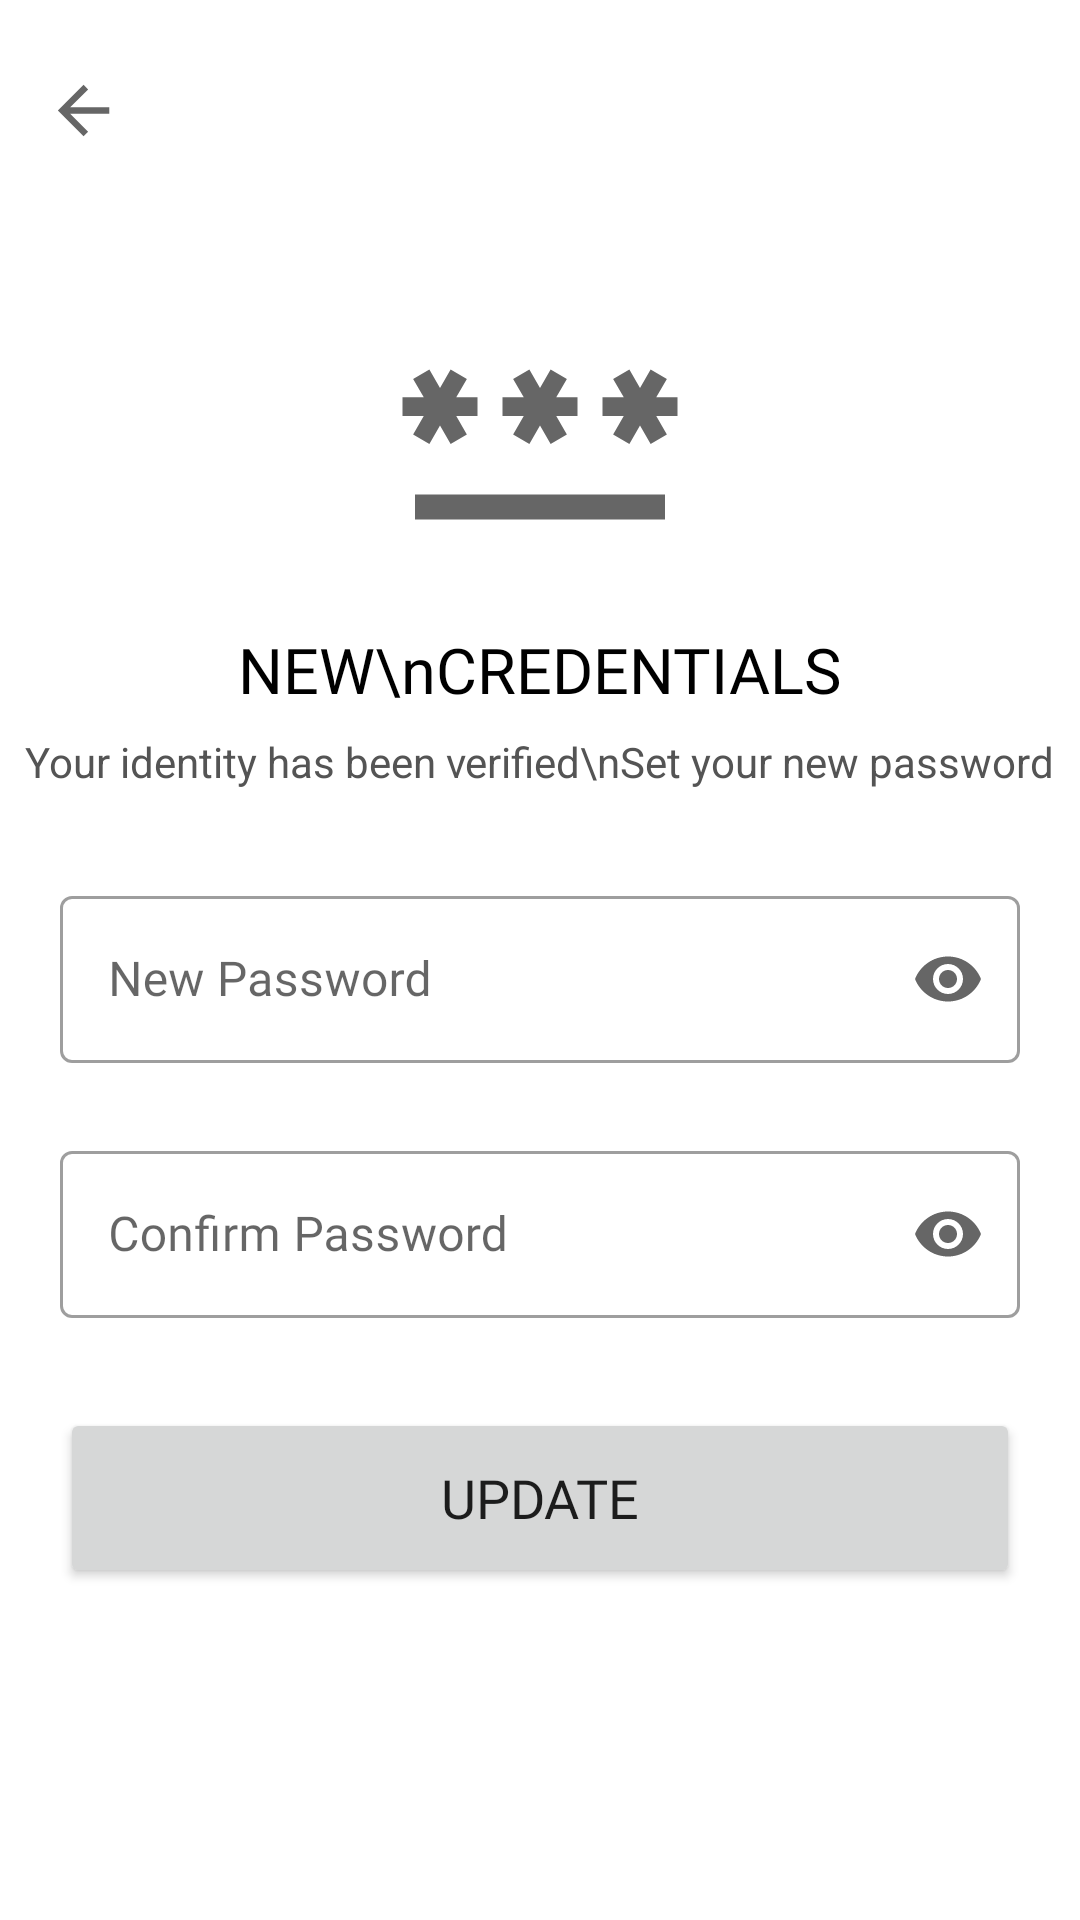

Where to tap for icons on this 1080×1920 app screen, as [x,y]:
arrow back: [84,110]
password: [540,444]
